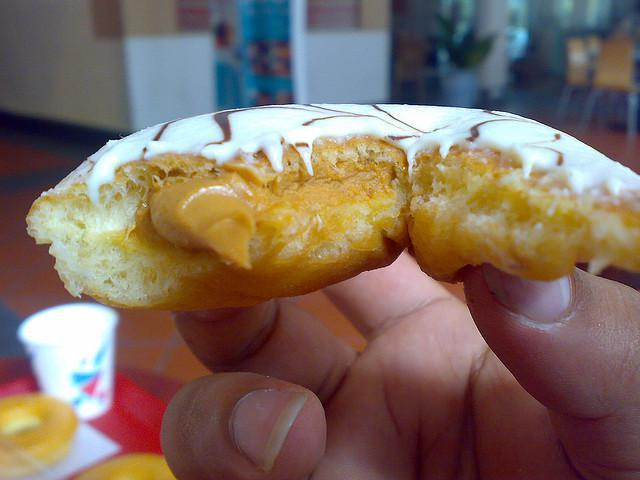hand: (138, 159, 639, 472)
